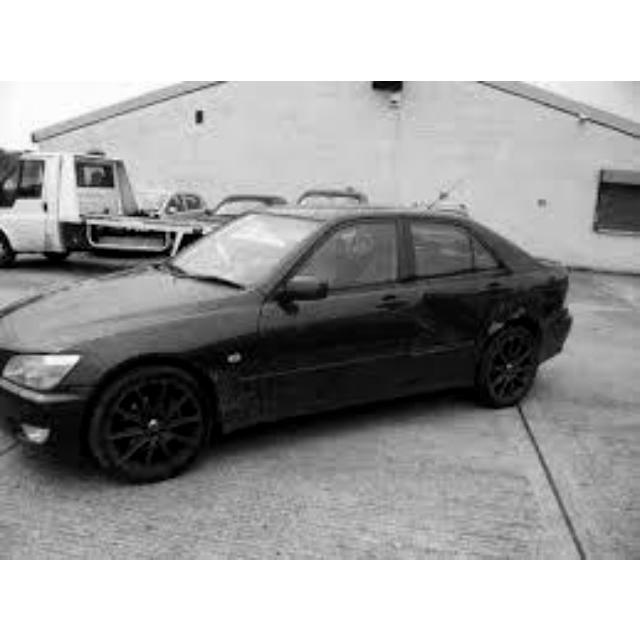doorouter-dent: (421, 279, 490, 382)
